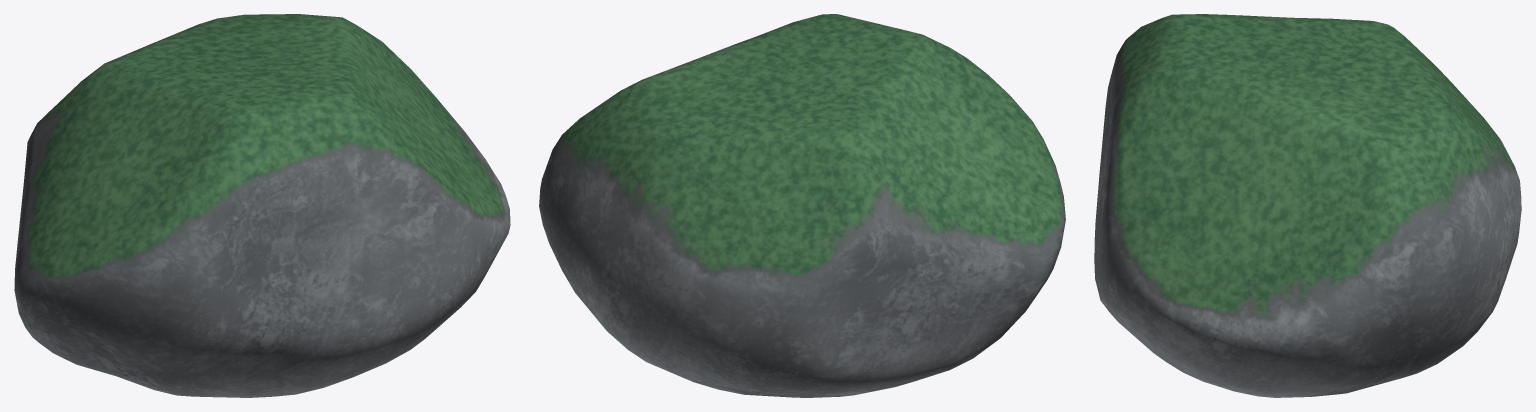
Rendered from creature_boulder_c.glb.
3 renders of one model, left to right at view 1: azimuth 30°, elevation 25°; view 2: azimuth 150°, elevation 25°; view 3: azimuth 270°, elevation 25°, orthographic. The views are drawn at different scales.
Parts seen in each view (by area): view 1: BoulderC; view 2: BoulderC; view 3: BoulderC.
Part boxes in pixels (x1=…): BoulderC: x1=14, y1=14, x2=510, y2=397; BoulderC: x1=539, y1=14, x2=1065, y2=397; BoulderC: x1=1094, y1=14, x2=1521, y2=397.
Size of the model in its own units: 3 by 1.89 by 2.32.
Materials: 1 (1 with a texture image).
